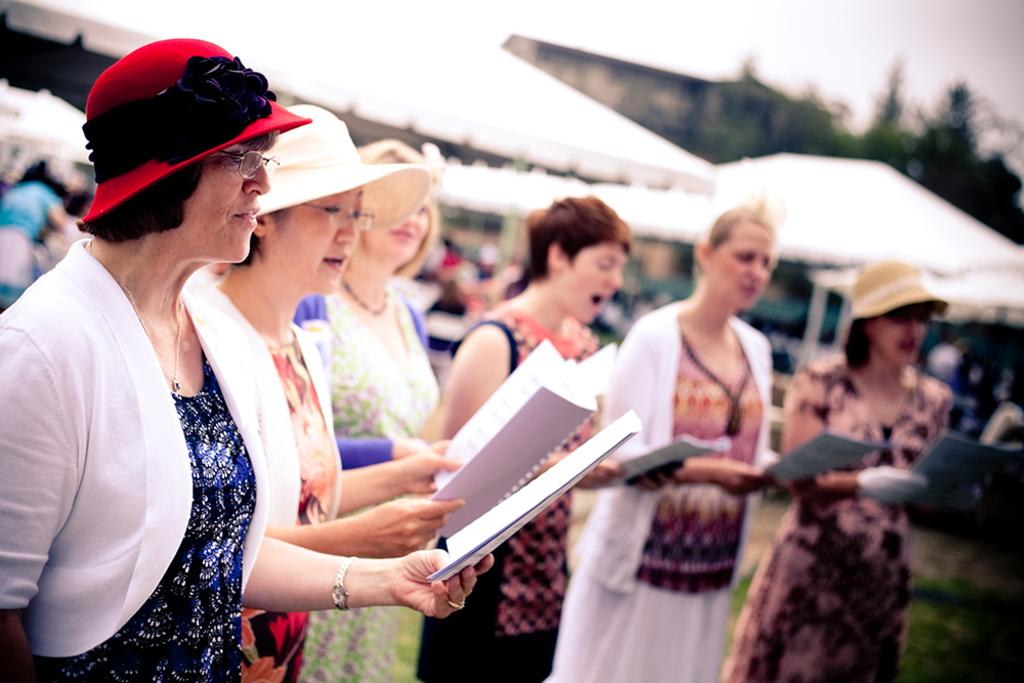Hat: (81, 36, 315, 227), (258, 102, 432, 232), (848, 260, 948, 320)
